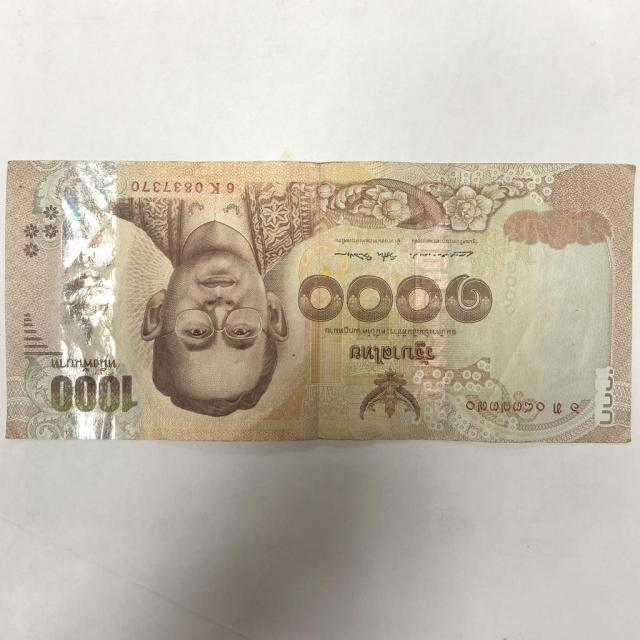THAI1000: (7, 161, 633, 442)
